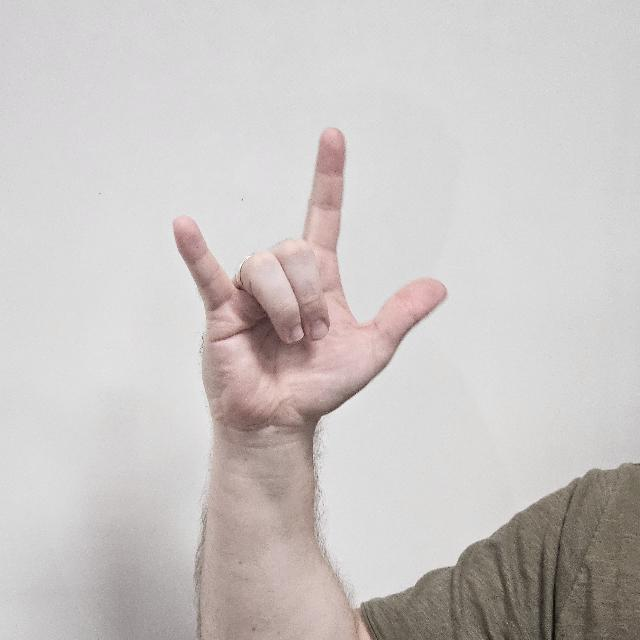Cima: (168, 128, 448, 438)
